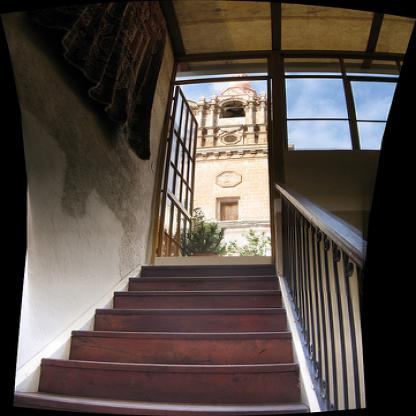stairs: (130, 286, 278, 416)
